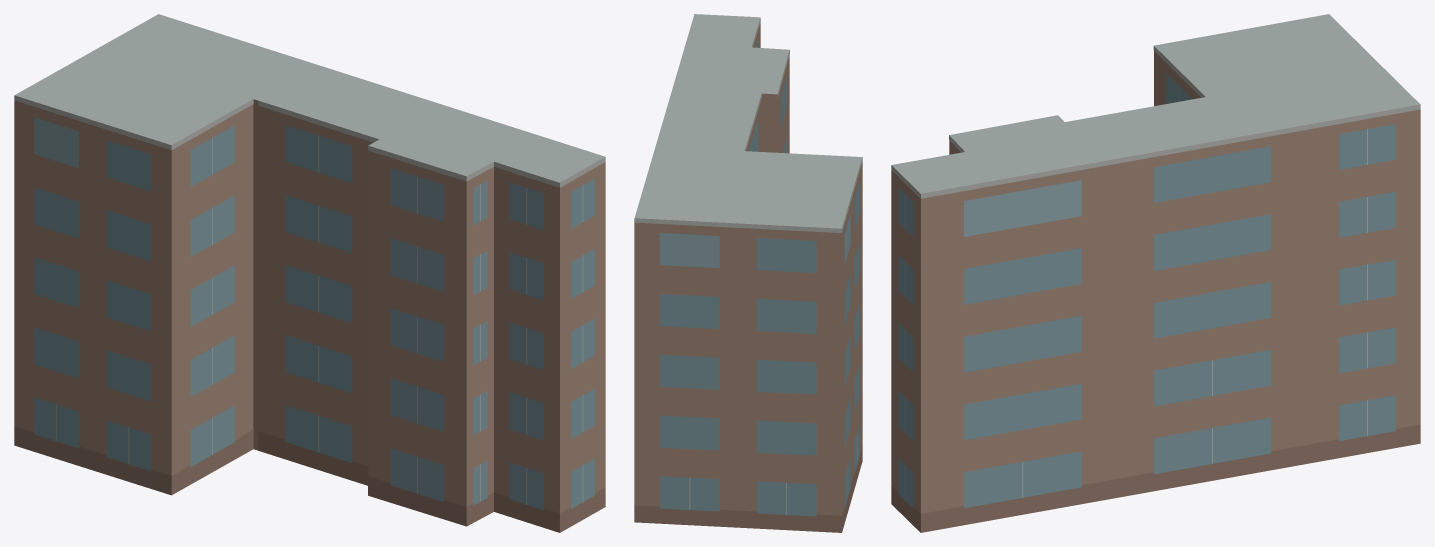
File: survey-upis-32752125.glb
3 renders of one model, left to right at view 1: azimuth 30°, elevation 25°; view 2: azimuth 150°, elevation 25°; view 3: azimuth 270°, elevation 25°, orthographic. The views are drawn at different scales.
Parts seen in each view (by area): view 1: survey-upis-32752125.tmp; view 2: survey-upis-32752125.tmp; view 3: survey-upis-32752125.tmp.
Part boxes in pixels (bbox=[...]): survey-upis-32752125.tmp: bbox=[14, 14, 605, 532]; survey-upis-32752125.tmp: bbox=[634, 14, 862, 532]; survey-upis-32752125.tmp: bbox=[891, 14, 1420, 532].
Bounding box in the file's own units: 19.12 × 16.8 × 23.78.
